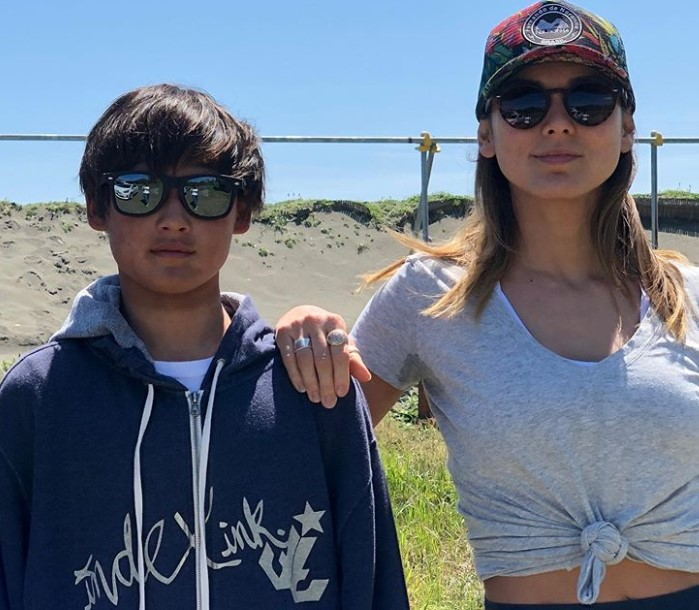face_no_mask: (95, 110, 252, 299), (485, 23, 632, 199)
